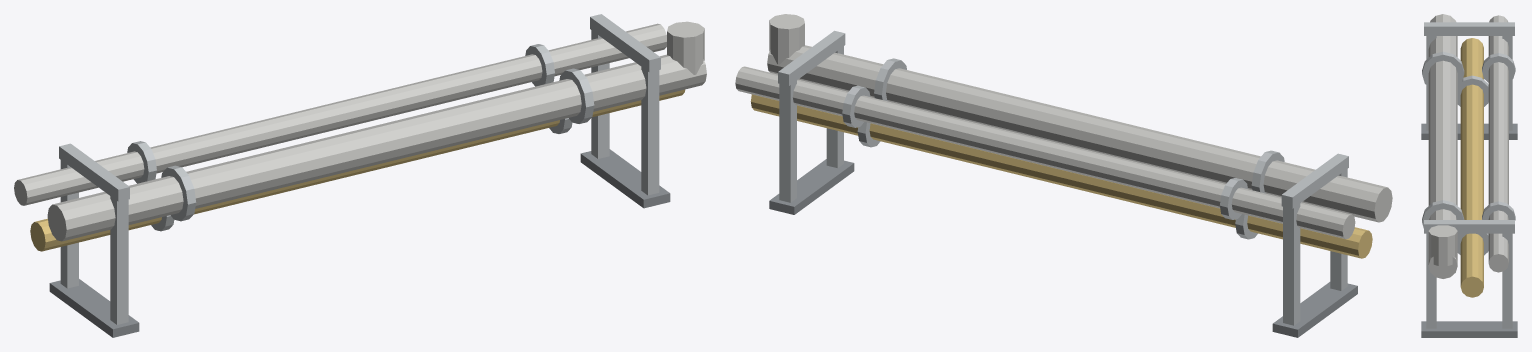
Rendered from P_pipe_segment.fbx.
3 views of the same model, side by side, from view 1: azimuth 30°, elevation 25°; view 2: azimuth 150°, elevation 25°; view 3: azimuth 270°, elevation 25° (orthographic). The views are drawn at different scales.
Visible parts, largest first — view 1: P_pipe_segment; view 2: P_pipe_segment; view 3: P_pipe_segment.
Boxes of the visible parts, x1=… form: P_pipe_segment: x1=14, y1=14, x2=706, y2=337; P_pipe_segment: x1=735, y1=14, x2=1392, y2=337; P_pipe_segment: x1=1421, y1=14, x2=1517, y2=337.
Size of the model in its own units: 3.89 by 0.89 by 0.66.
